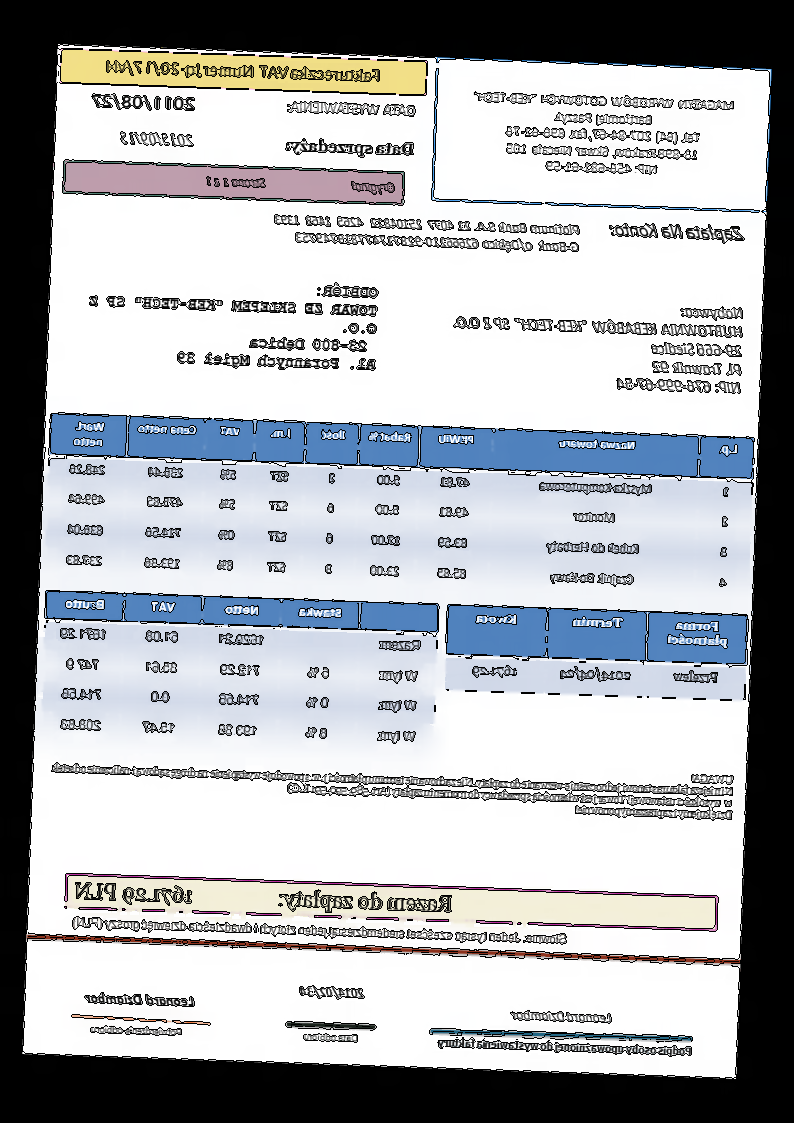Table: (44, 411, 755, 603), (39, 589, 441, 756), (444, 602, 749, 703)
TextBox: (48, 749, 736, 824), (82, 271, 382, 375), (451, 294, 747, 397), (467, 87, 737, 181), (72, 912, 569, 950), (72, 878, 455, 919), (270, 211, 583, 257), (105, 56, 384, 86), (435, 1033, 694, 1060), (206, 174, 397, 197), (608, 219, 746, 245), (282, 136, 417, 160), (286, 97, 418, 121), (90, 92, 197, 116), (85, 990, 198, 1009), (508, 1006, 615, 1026), (119, 129, 195, 150), (90, 1023, 184, 1038), (298, 983, 366, 1001), (303, 1029, 362, 1045)
